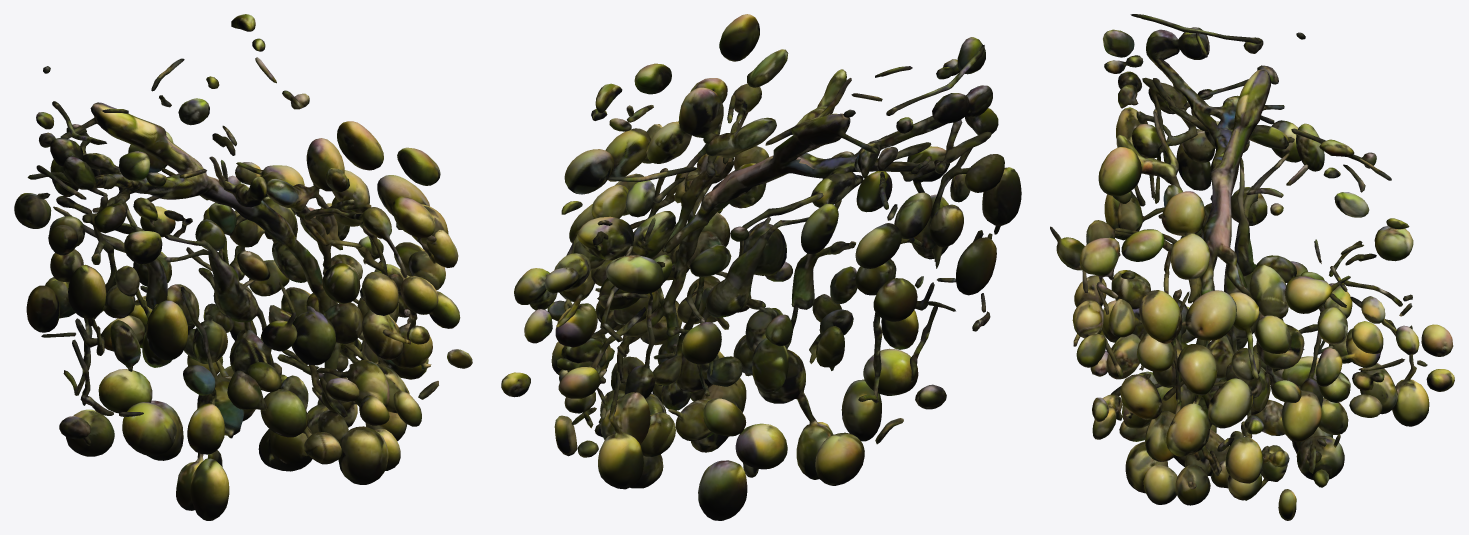
Rendered from tree0073_dup.gltf.
The picture shows the model from 3 angles, left to right: view 1: azimuth 30°, elevation 25°; view 2: azimuth 150°, elevation 25°; view 3: azimuth 270°, elevation 25°; orthographic projection. The views are drawn at different scales.
Visible parts, largest first — view 1: Mesh_0.056; view 2: Mesh_0.056; view 3: Mesh_0.056.
Boxes of the visible parts, box(x1,y1,x2,y2) form: Mesh_0.056: box(14, 14, 472, 520); Mesh_0.056: box(501, 14, 1021, 520); Mesh_0.056: box(1050, 14, 1454, 520).
Bounding box in the file's own units: 1.94 × 1.94 × 1.88.
Materials: 1 (1 with a texture image).
